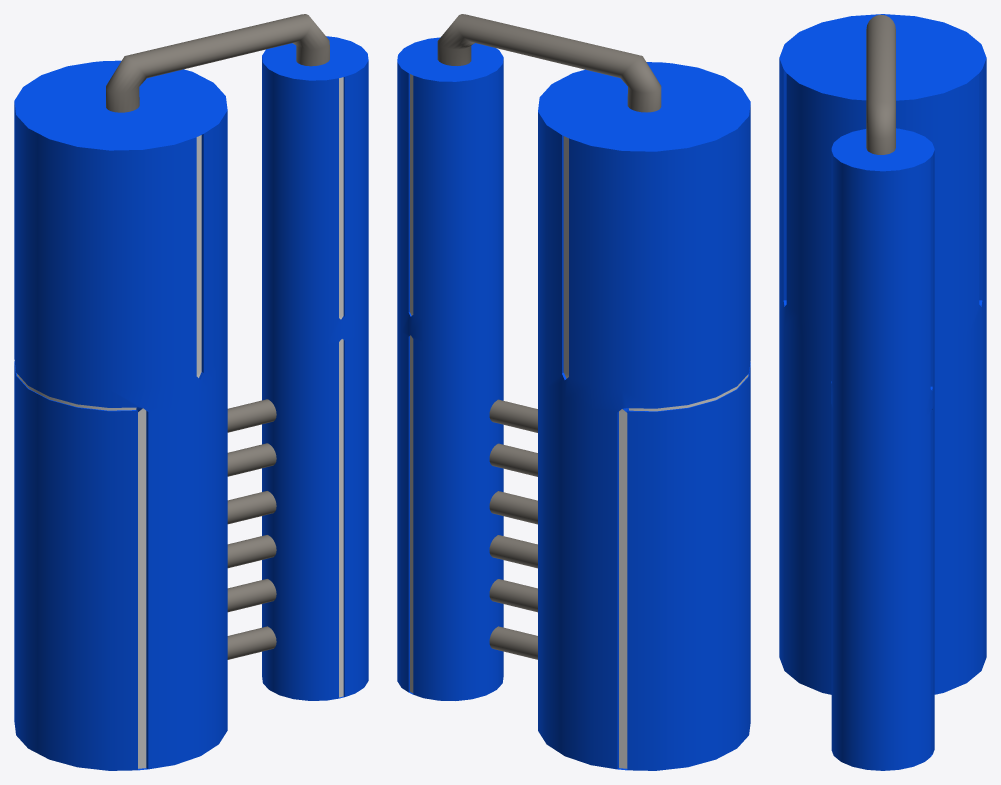
Rendered from Blue Transistor.fbx.
3 views of the same model, side by side, from view 1: azimuth 30°, elevation 25°; view 2: azimuth 150°, elevation 25°; view 3: azimuth 270°, elevation 25° (orthographic). The views are drawn at different scales.
Parts seen in each view (by area): view 1: pCylinder28; view 2: pCylinder28; view 3: pCylinder28.
Boxes of the visible parts, x1,y1,x2,y2 form: pCylinder28: (14, 14, 368, 770); pCylinder28: (397, 14, 750, 770); pCylinder28: (779, 14, 986, 770).
Bounding box in the file's own units: 62.68 × 120 × 34.89.
